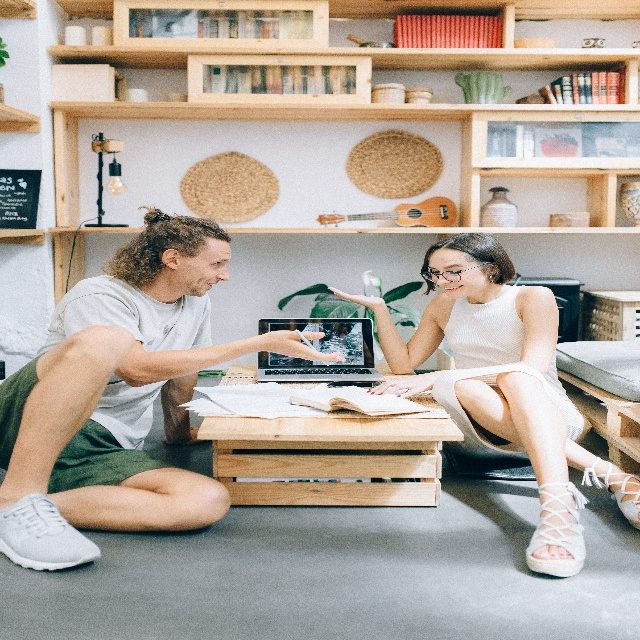Gafas: (420, 262, 490, 283)
Sin_guantes: (265, 321, 345, 369), (327, 282, 385, 310)
